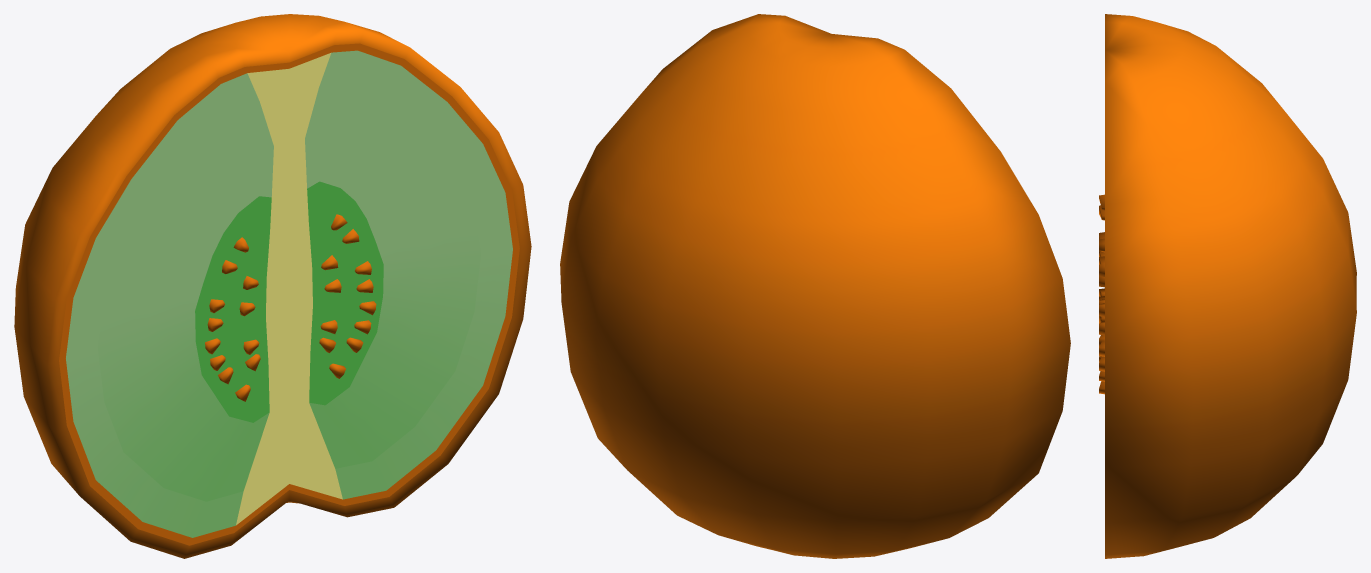
Rendered from Guava_half_02.fbx.
The picture shows the model from 3 angles, left to right: view 1: azimuth 30°, elevation 25°; view 2: azimuth 150°, elevation 25°; view 3: azimuth 270°, elevation 25°; orthographic projection. The views are drawn at different scales.
Parts seen in each view (by area): view 1: Guava_half_02; view 2: Guava_half_02; view 3: Guava_half_02.
Boxes of the visible parts, bbox=[...] form: Guava_half_02: bbox=[14, 14, 531, 558]; Guava_half_02: bbox=[560, 14, 1070, 558]; Guava_half_02: bbox=[1099, 14, 1356, 558].
Bounding box in the file's own units: 63.36 × 61.12 × 30.62.
